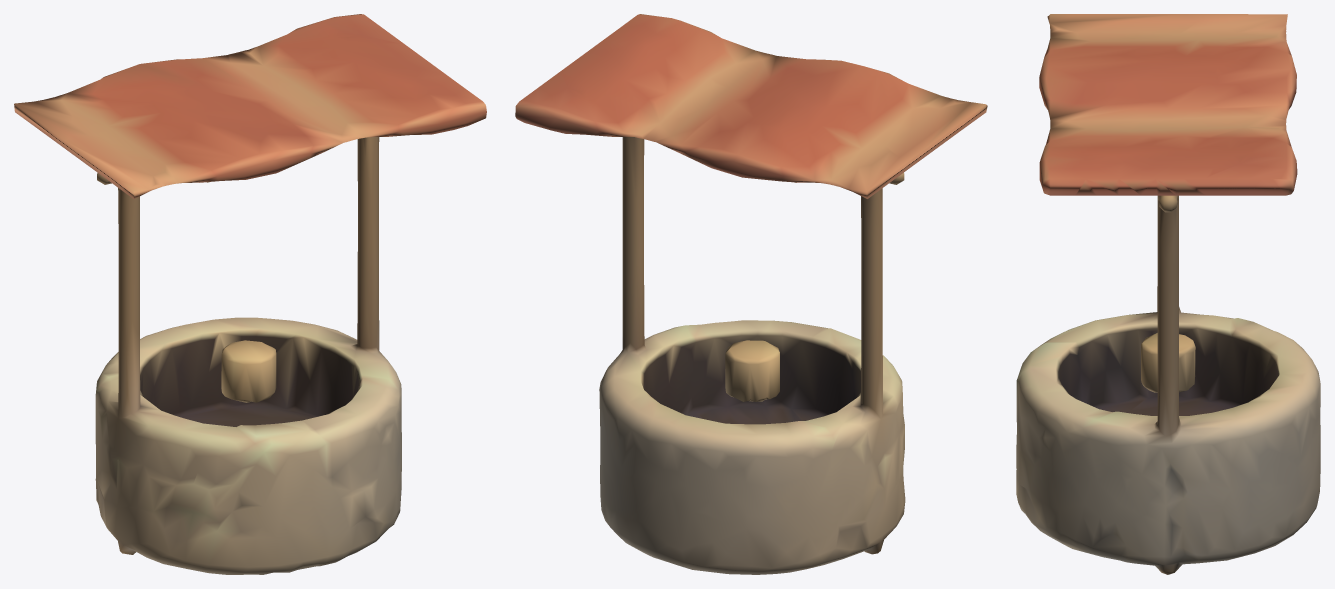
The model's file is env_se_well.glb.
The picture shows the model from 3 angles, left to right: view 1: azimuth 30°, elevation 25°; view 2: azimuth 150°, elevation 25°; view 3: azimuth 270°, elevation 25°; orthographic projection.
Parts seen in each view (by area): view 1: geometry_0; view 2: geometry_0; view 3: geometry_0.
Boxes of the visible parts, box(x1,y1,x2,y2) form: geometry_0: box(14, 14, 486, 574); geometry_0: box(515, 14, 987, 574); geometry_0: box(1016, 14, 1320, 574).
Size of the model in its own units: 2.92 by 3.4 by 2.22.
